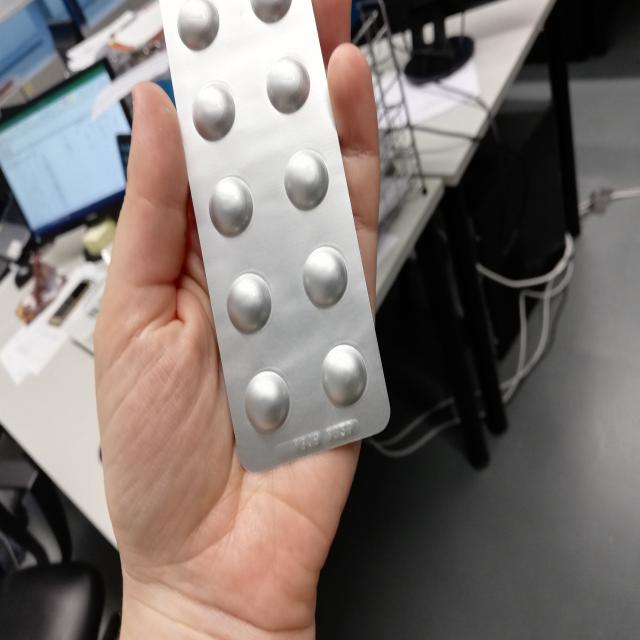Pill: (235, 357, 297, 439), (200, 165, 260, 248), (218, 268, 281, 340), (258, 54, 321, 126), (314, 341, 374, 416), (297, 242, 356, 316), (185, 80, 244, 146), (284, 144, 330, 220), (172, 0, 234, 54)
